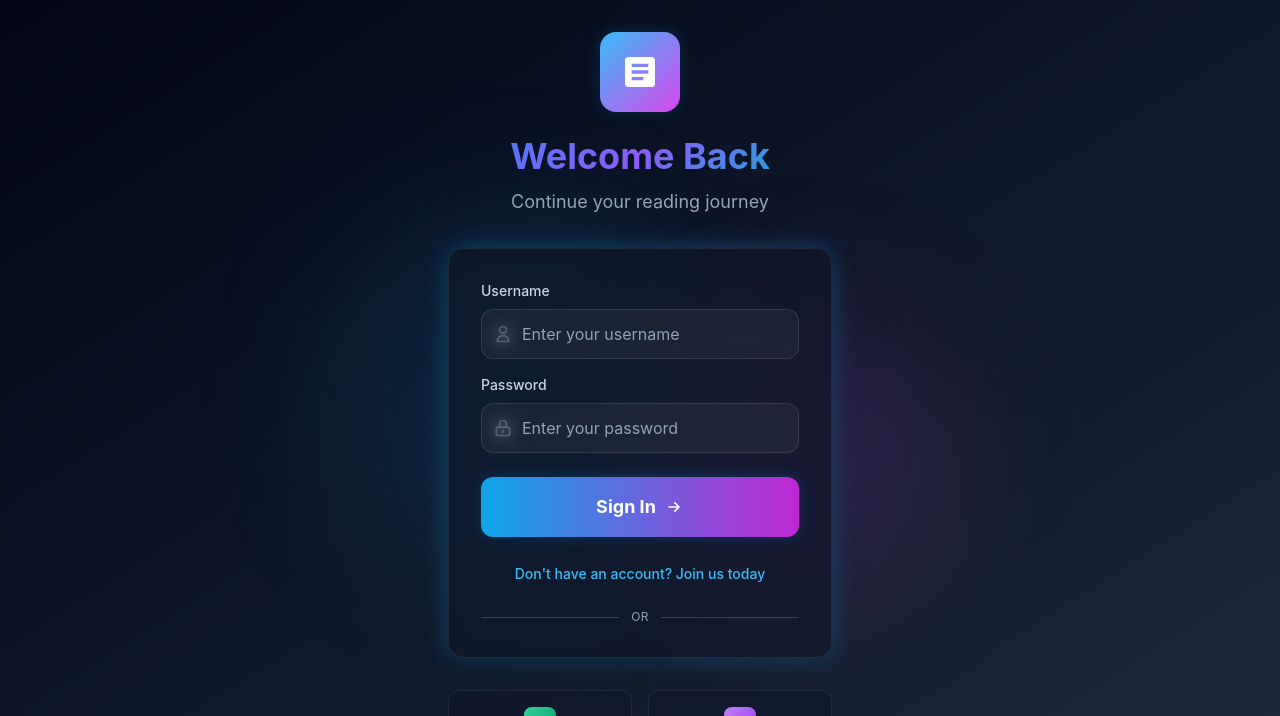
it: LoginPage sign-in › does NOT sign in when the backend rejects the password
This screenshot has width=1280, height=716.
In the field with placeholder "Enter your username": (640, 334) [481,309,799,359], type "Akshat"
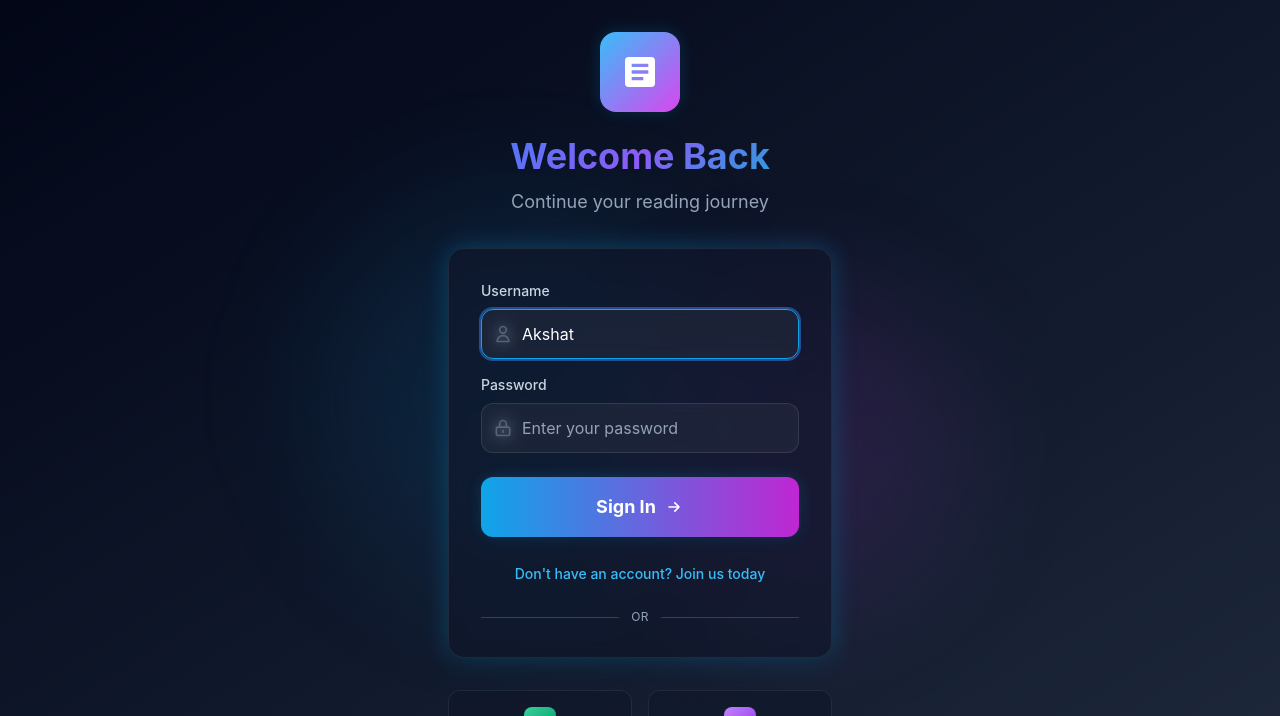
In the password field with placeholder "Enter your password": (640, 428) [481,403,799,453], type "gibberish"
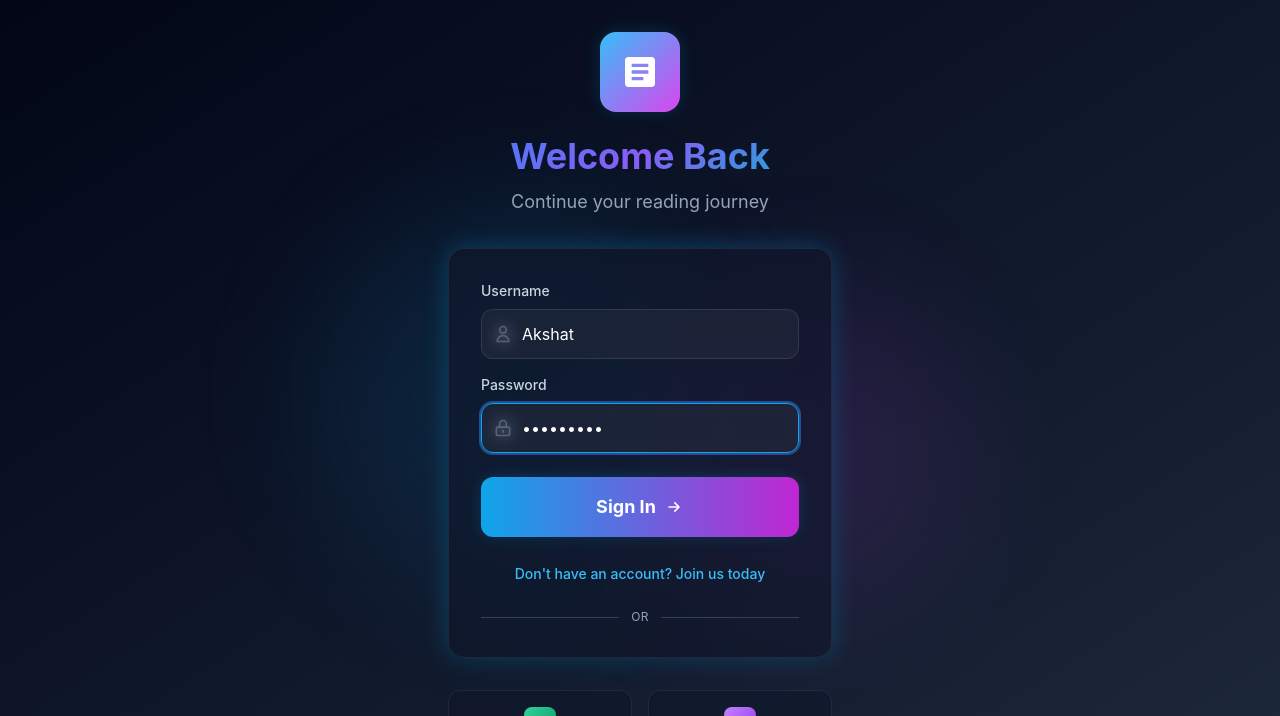
Click the button "Sign In": (640, 507) [481,477,799,537]
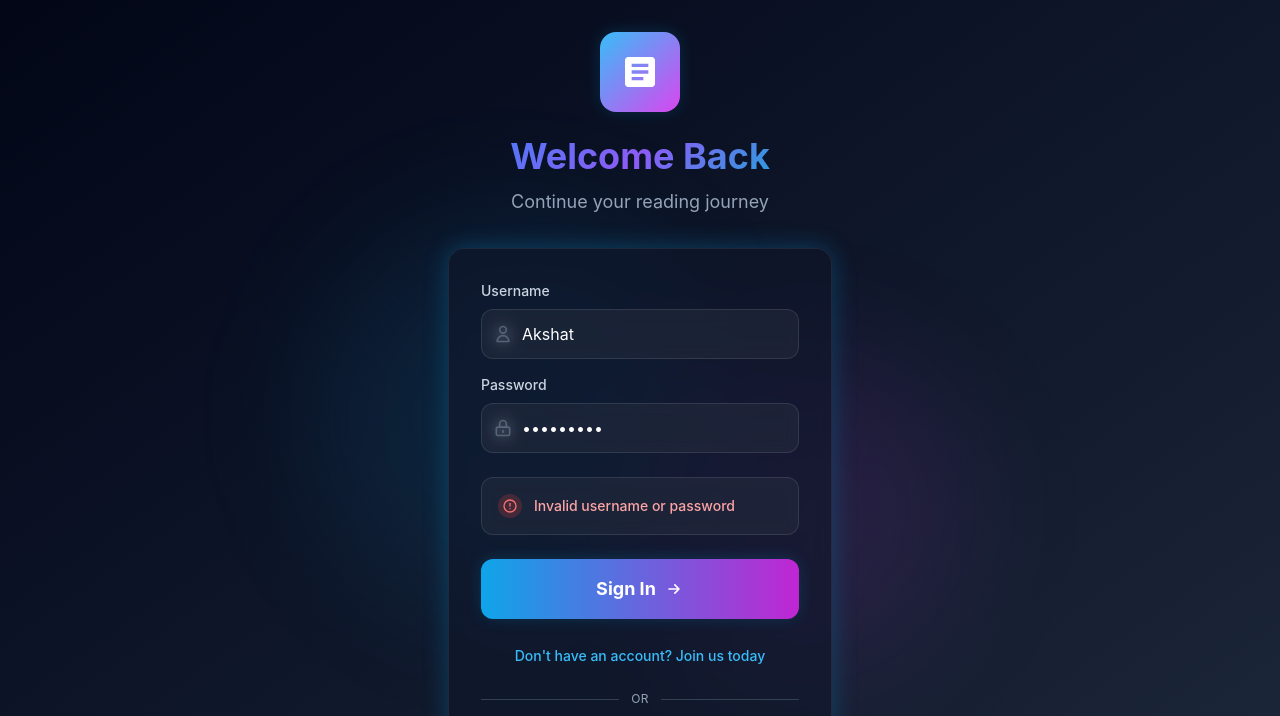
Check: the text "Invalid username or password" is shown, box [534,496,735,516]
